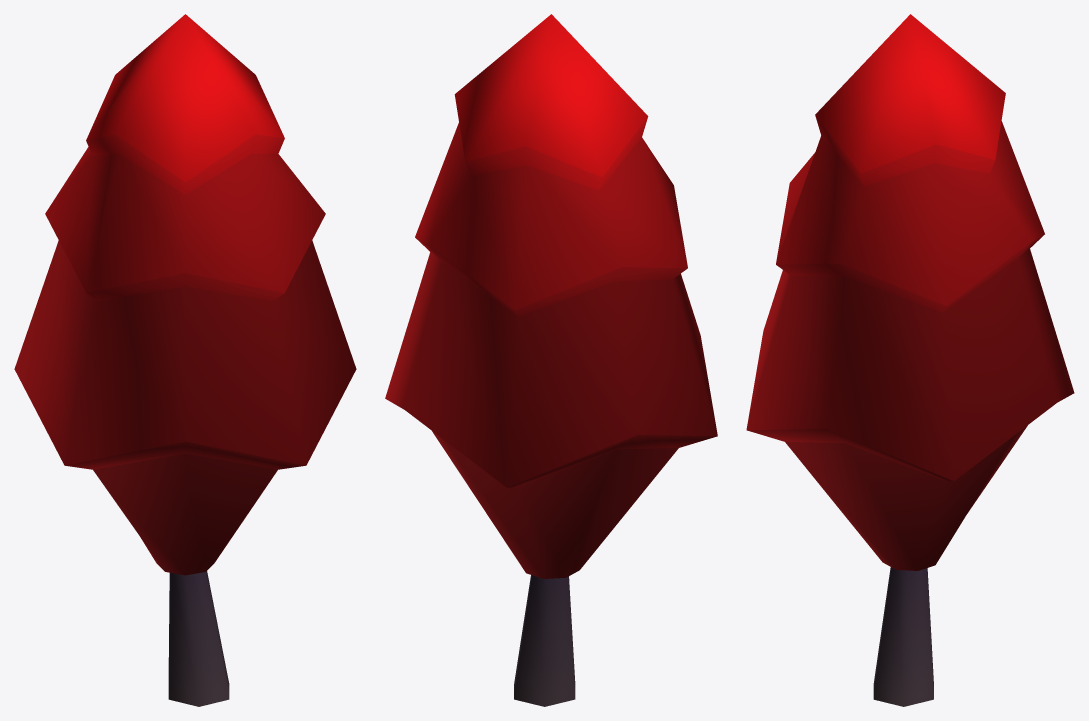
Rendered from TreeDiamondA2.fbx.
3 renders of one model, left to right at view 1: azimuth 30°, elevation 25°; view 2: azimuth 150°, elevation 25°; view 3: azimuth 270°, elevation 25°, orthographic.
Parts seen in each view (by area): view 1: TreeDiamondA2; view 2: TreeDiamondA2; view 3: TreeDiamondA2.
Part boxes in pixels (left/top/right/bottom): TreeDiamondA2: left=14, top=14, right=356, bottom=706; TreeDiamondA2: left=385, top=14, right=717, bottom=706; TreeDiamondA2: left=746, top=14, right=1074, bottom=706.
Bounding box in the file's own units: 68.25 × 155 × 68.25.
